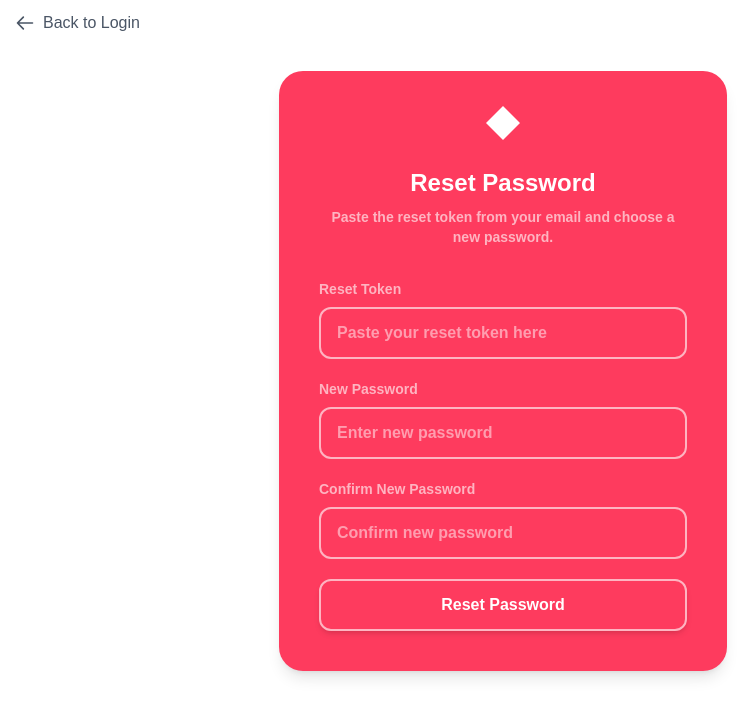
it: ResetPasswordPage › TC-099 [S-01]: shows the server-provided message when the reset fails (e.g. expired token)
In the field labelled "Reset Token": (503, 333) x1=319 y1=307 x2=687 y2=359, type "  abc123token  "
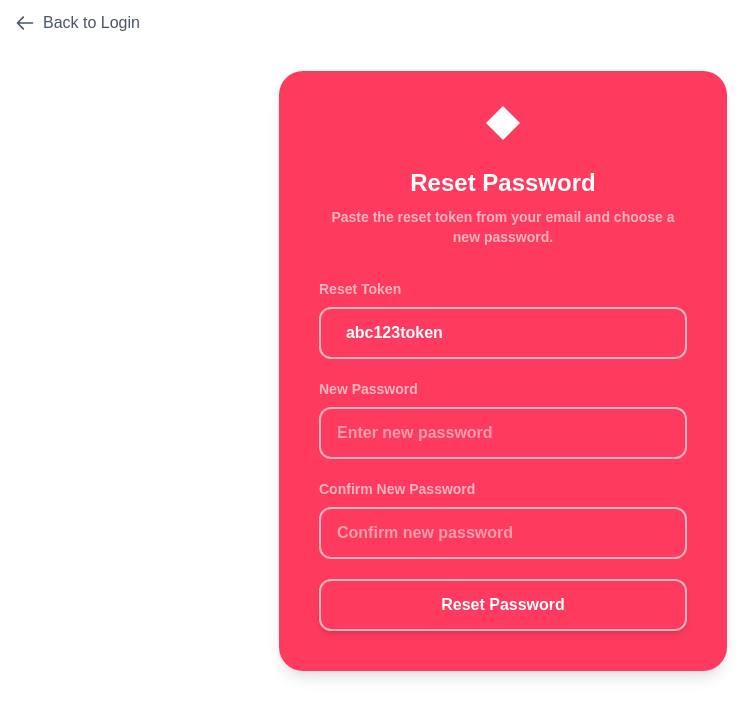
In the password field labelled "New Password": (503, 433) x1=319 y1=407 x2=687 y2=459, type "NewValid123!"
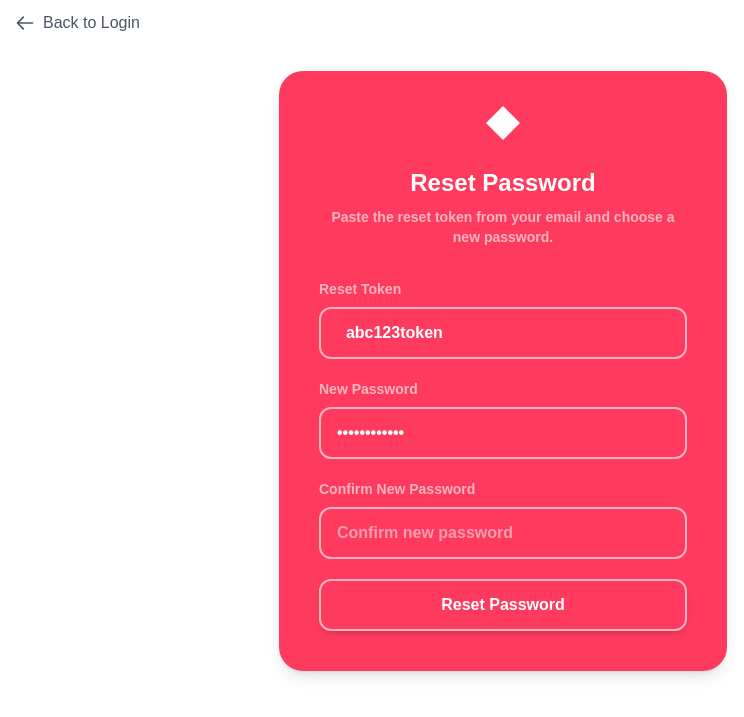
In the password field labelled "Confirm New Password": (503, 533) x1=319 y1=507 x2=687 y2=559, type "NewValid123!"
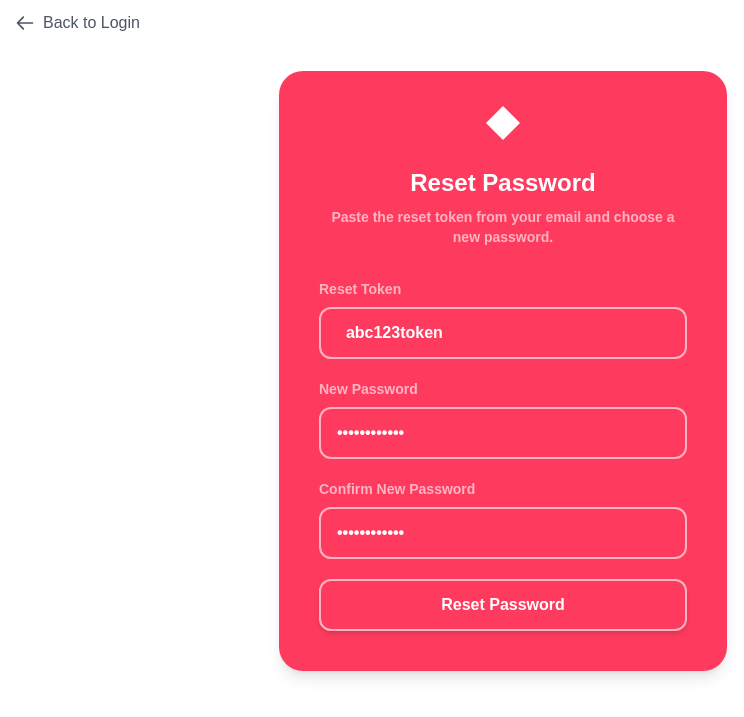
Click the button "Reset Password": (503, 605) x1=319 y1=579 x2=687 y2=631
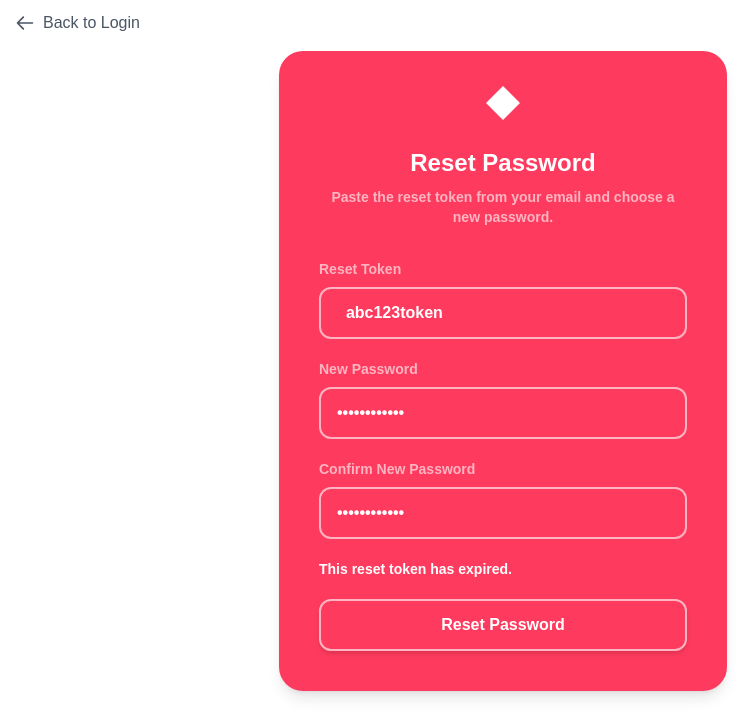
expect the text "This reset token has expired." is shown: met, box x1=319 y1=561 x2=512 y2=577
